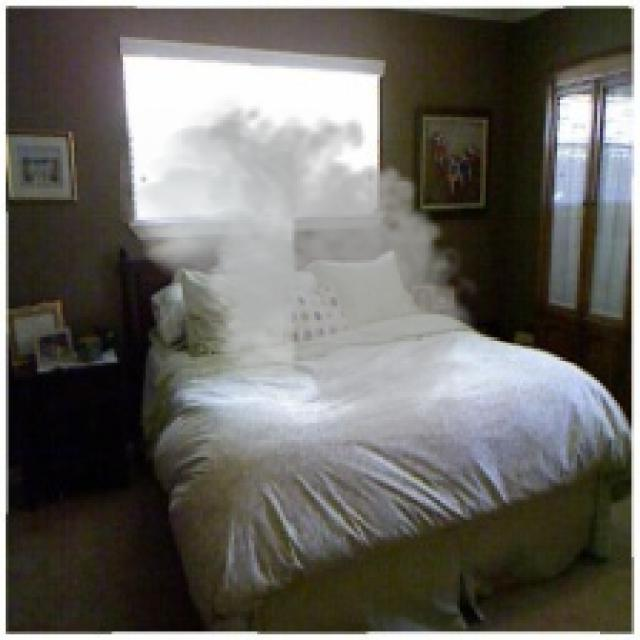smoke: (120, 94, 489, 452)
